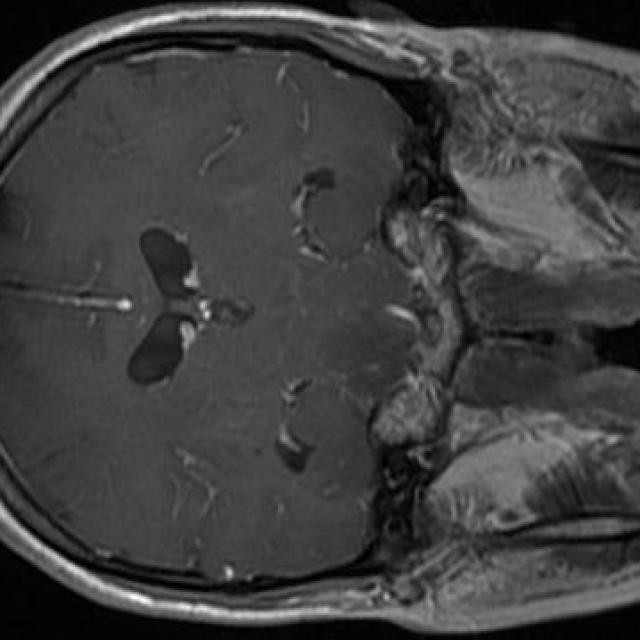glioma: (335, 305, 424, 398)
